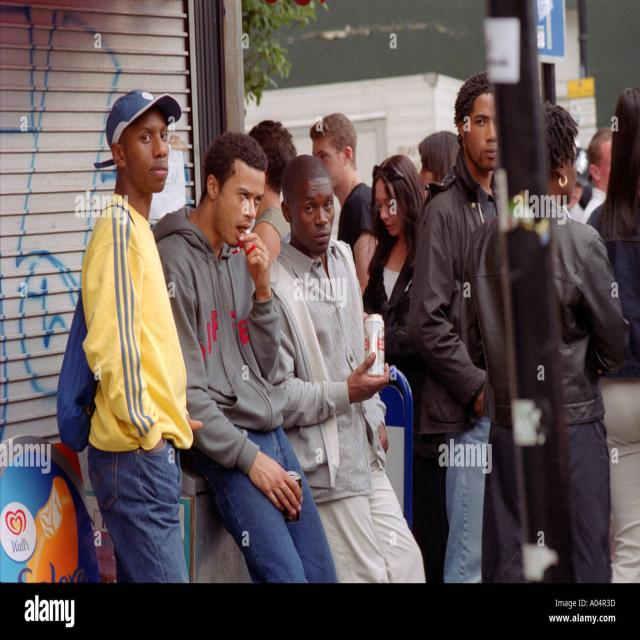human: (62, 80, 192, 576), (412, 88, 526, 584), (163, 123, 283, 578), (267, 150, 371, 581), (356, 155, 437, 411), (300, 97, 376, 273)
loitering: (163, 130, 318, 586), (76, 72, 210, 584), (415, 95, 538, 578), (283, 152, 366, 583), (359, 150, 434, 423), (290, 92, 372, 262)
